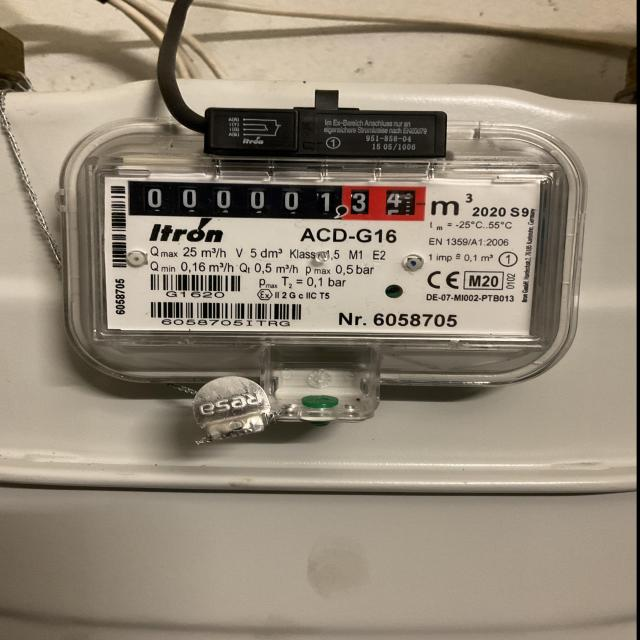gaz_meter: (99, 168, 541, 342)
indication: (127, 181, 425, 219)
